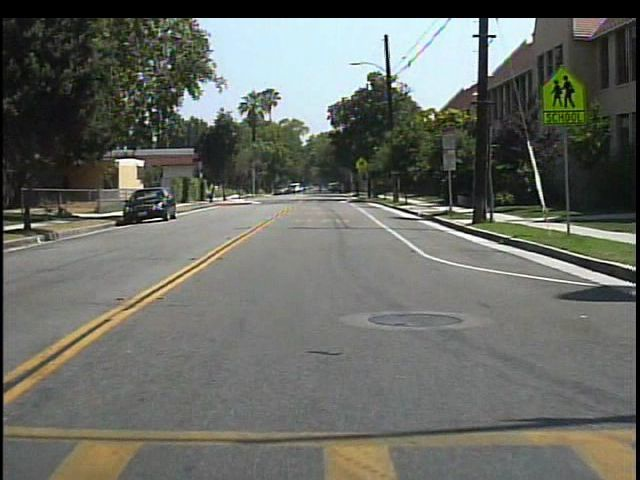person: (313, 179, 327, 197)
